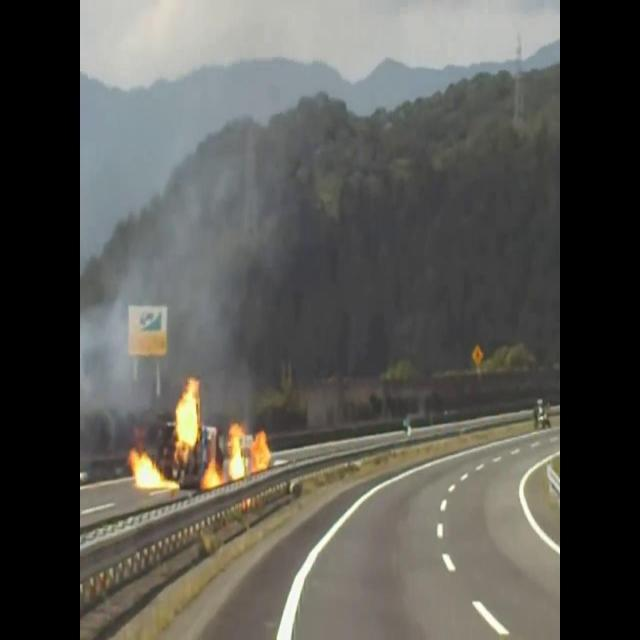Fire: (200, 425, 272, 488), (124, 448, 186, 495), (174, 372, 200, 453)
